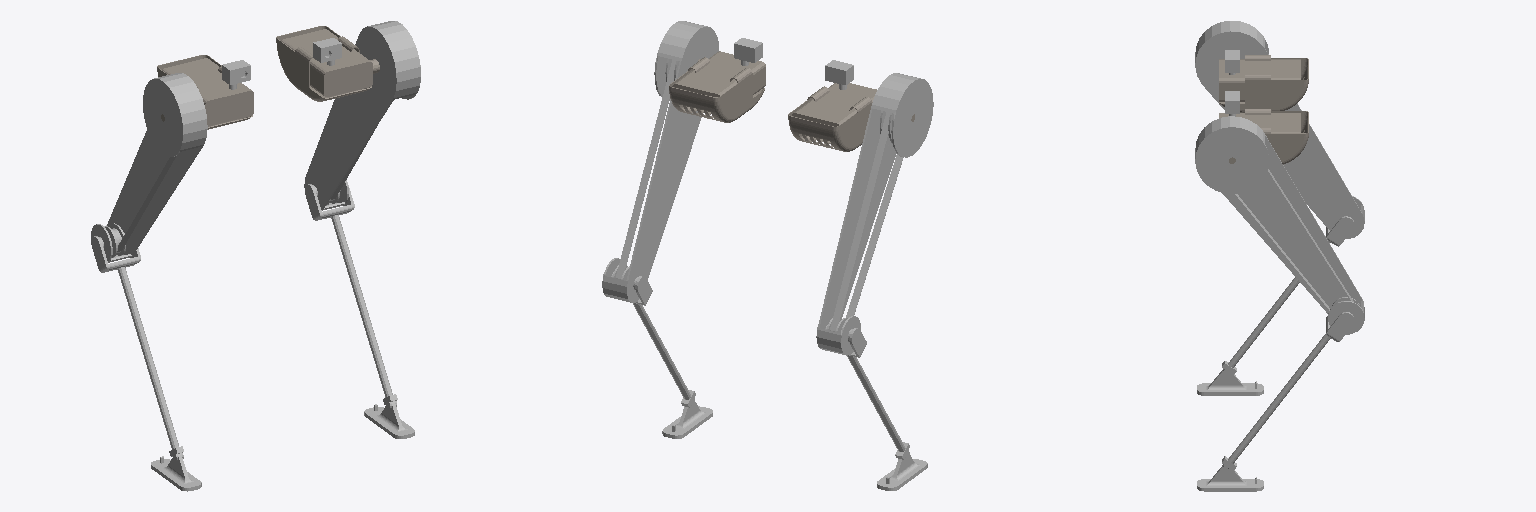
URDF robot description (centaur_urdf):
<?xml version="1.0" encoding="utf-8"?>
<!-- This URDF was automatically created by SolidWorks to URDF Exporter! Originally created by [author] ([email redacted]) 
     Commit Version: 1.6.0-1-g15f4949  Build Version: 1.6.7594.29634
     For more information, please see http://wiki.ros.org/sw_urdf_exporter -->
<robot
  name="centaur_urdf">
  <link
    name="base_link">
    <inertial>
      <origin
        xyz="5.99274422863338E-08 0.0627785232806068 -0.00140559366517001"
        rpy="0 0 0" />
      <mass
        value="1.86977241288359" />
      <inertia
        ixx="0.00479191131050549"
        ixy="3.90881402194306E-09"
        ixz="-7.46774984462918E-09"
        iyy="0.0107382223914361"
        iyz="0.000736442802352788"
        izz="0.0136871237771052" />
    </inertial>
    <visual>
      <origin
        xyz="0 0 0"
        rpy="0 0 0" />
      <geometry>
        <mesh
          filename="package://centaur_urdf/meshes/base_link.STL" />
      </geometry>
      <material
        name="">
        <color
          rgba="0.752941176470588 0.752941176470588 0.752941176470588 1" />
      </material>
    </visual>
    <collision>
      <origin
        xyz="0 0 0"
        rpy="0 0 0" />
      <geometry>
        <mesh
          filename="package://centaur_urdf/meshes/base_link.STL" />
      </geometry>
    </collision>
  </link>
  <link
    name="LPelvis01">
    <inertial>
      <origin
        xyz="0.011229 -0.003225 -0.025461"
        rpy="0 0 0" />
      <mass
        value="0.10228" />
      <inertia
        ixx="3.6191E-05"
        ixy="2.8934E-06"
        ixz="-5.2913E-07"
        iyy="4.1712E-05"
        iyz="1.5198E-07"
        izz="5.3341E-05" />
    </inertial>
    <visual>
      <origin
        xyz="0 0 0"
        rpy="0 0 0" />
      <geometry>
        <mesh
          filename="package://centaur_urdf/meshes/LPelvis01.STL" />
      </geometry>
      <material
        name="">
        <color
          rgba="0.75294 0.75294 0.75294 1" />
      </material>
    </visual>
    <collision>
      <origin
        xyz="0 0 0"
        rpy="0 0 0" />
      <geometry>
        <mesh
          filename="package://centaur_urdf/meshes/LPelvis01.STL" />
      </geometry>
    </collision>
  </link>
  <joint
    name="Lhipy"
    type="revolute">
    <origin
      xyz="0.12 0.07 0"
      rpy="1.5708 0 0" />
    <parent
      link="base_link" />
    <child
      link="LPelvis01" />
    <axis
      xyz="0 0 -1" />
    <limit
      lower="-2"
      upper="2"
      effort="0"
      velocity="0" />
  </joint>
  <link
    name="LPelvis02">
    <inertial>
      <origin
        xyz="0.030747 0.043959 -0.053175"
        rpy="0 0 0" />
      <mass
        value="1.2721" />
      <inertia
        ixx="0.0039413"
        ixy="0.00010999"
        ixz="2.6582E-05"
        iyy="0.0030337"
        iyz="-0.00066066"
        izz="0.0057264" />
    </inertial>
    <visual>
      <origin
        xyz="0 0 0"
        rpy="0 0 0" />
      <geometry>
        <mesh
          filename="package://centaur_urdf/meshes/LPelvis02.STL" />
      </geometry>
      <material
        name="">
        <color
          rgba="0.64706 0.61961 0.58824 1" />
      </material>
    </visual>
    <collision>
      <origin
        xyz="0 0 0"
        rpy="0 0 0" />
      <geometry>
        <mesh
          filename="package://centaur_urdf/meshes/LPelvis02.STL" />
      </geometry>
    </collision>
  </link>
  <joint
    name="Lhipz"
    type="revolute">
    <origin
      xyz="0.02 -0.02 -0.025"
      rpy="-1.5708 0 0" />
    <parent
      link="LPelvis01" />
    <child
      link="LPelvis02" />
    <axis
      xyz="0 0 -1" />
    <limit
      lower="-2"
      upper="2"
      effort="0"
      velocity="0" />
  </joint>
  <link
    name="LThigh">
    <inertial>
      <origin
        xyz="0.068249 -0.10404 0.027078"
        rpy="0 0 0" />
      <mass
        value="1.3138" />
      <inertia
        ixx="0.03289"
        ixy="0.019361"
        ixz="0.00061008"
        iyy="0.016077"
        iyz="-0.00092999"
        izz="0.047578" />
    </inertial>
    <visual>
      <origin
        xyz="0 0 0"
        rpy="0 0 0" />
      <geometry>
        <mesh
          filename="package://centaur_urdf/meshes/LThigh.STL" />
      </geometry>
      <material
        name="">
        <color
          rgba="0.75294 0.75294 0.75294 1" />
      </material>
    </visual>
    <collision>
      <origin
        xyz="0 0 0"
        rpy="0 0 0" />
      <geometry>
        <mesh
          filename="package://centaur_urdf/meshes/LThigh.STL" />
      </geometry>
    </collision>
  </link>
  <joint
    name="Lhipx"
    type="revolute">
    <origin
      xyz="0.13 0 -0.055"
      rpy="1.5708 0 1.5708" />
    <parent
      link="LPelvis02" />
    <child
      link="LThigh" />
    <axis
      xyz="0 0 -1" />
    <limit
      lower="-2"
      upper="2"
      effort="0"
      velocity="0" />
  </joint>
  <link
    name="LCalf">
    <inertial>
      <origin
        xyz="-0.075262 -0.10701 0.035"
        rpy="0 0 0" />
      <mass
        value="0.42989" />
      <inertia
        ixx="0.0055581"
        ixy="-0.003716"
        ixz="-2.1124E-10"
        iyy="0.0028884"
        iyz="-3.3819E-10"
        izz="0.0080157" />
    </inertial>
    <visual>
      <origin
        xyz="0 0 0"
        rpy="0 0 0" />
      <geometry>
        <mesh
          filename="package://centaur_urdf/meshes/LCalf.STL" />
      </geometry>
      <material
        name="">
        <color
          rgba="0.75294 0.75294 0.75294 1" />
      </material>
    </visual>
    <collision>
      <origin
        xyz="0 0 0"
        rpy="0 0 0" />
      <geometry>
        <mesh
          filename="package://centaur_urdf/meshes/LCalf.STL" />
      </geometry>
    </collision>
  </link>
  <joint
    name="Lkneex"
    type="revolute">
    <origin
      xyz="0.30717 -0.46824 0"
      rpy="0 0 0" />
    <parent
      link="LThigh" />
    <child
      link="LCalf" />
    <axis
      xyz="0 0 -1" />
    <limit
      lower="-1"
      upper="1"
      effort="0"
      velocity="0" />
  </joint>
  <link
    name="LFoot">
    <inertial>
      <origin
        xyz="0.0075881 -0.048108 0.01"
        rpy="0 0 0" />
      <mass
        value="0.13962" />
      <inertia
        ixx="5.5783E-05"
        ixy="6.6601E-06"
        ixz="-1.7724E-12"
        iyy="0.00030802"
        iyz="1.4707E-12"
        izz="0.00030837" />
    </inertial>
    <visual>
      <origin
        xyz="0 0 0"
        rpy="0 0 0" />
      <geometry>
        <mesh
          filename="package://centaur_urdf/meshes/LFoot.STL" />
      </geometry>
      <material
        name="">
        <color
          rgba="0.75294 0.75294 0.75294 1" />
      </material>
    </visual>
    <collision>
      <origin
        xyz="0 0 0"
        rpy="0 0 0" />
      <geometry>
        <mesh
          filename="package://centaur_urdf/meshes/LFoot.STL" />
      </geometry>
    </collision>
  </link>
  <joint
    name="Lanklex"
    type="revolute">
    <origin
      xyz="-0.32217 -0.45805 0.025"
      rpy="0 0 0" />
    <parent
      link="LCalf" />
    <child
      link="LFoot" />
    <axis
      xyz="0 0 1" />
    <limit
      lower="-0.3"
      upper="0.3"
      effort="0"
      velocity="0" />
  </joint>
  <link
    name="RPelvis01">
    <inertial>
      <origin
        xyz="-0.011229 -0.003225 -0.025461"
        rpy="0 0 0" />
      <mass
        value="0.10228" />
      <inertia
        ixx="3.6191E-05"
        ixy="-2.8934E-06"
        ixz="5.2913E-07"
        iyy="4.1712E-05"
        iyz="1.5198E-07"
        izz="5.3341E-05" />
    </inertial>
    <visual>
      <origin
        xyz="0 0 0"
        rpy="0 0 0" />
      <geometry>
        <mesh
          filename="package://centaur_urdf/meshes/RPelvis01.STL" />
      </geometry>
      <material
        name="">
        <color
          rgba="0.75294 0.75294 0.75294 1" />
      </material>
    </visual>
    <collision>
      <origin
        xyz="0 0 0"
        rpy="0 0 0" />
      <geometry>
        <mesh
          filename="package://centaur_urdf/meshes/RPelvis01.STL" />
      </geometry>
    </collision>
  </link>
  <joint
    name="Rhipy"
    type="revolute">
    <origin
      xyz="-0.12 0.07 0"
      rpy="1.5708 0 0" />
    <parent
      link="base_link" />
    <child
      link="RPelvis01" />
    <axis
      xyz="0 0 -1" />
    <limit
      lower="-2"
      upper="2"
      effort="0"
      velocity="0" />
  </joint>
  <link
    name="RPelvis02">
    <inertial>
      <origin
        xyz="-0.030747 0.043959 -0.053175"
        rpy="0 0 0" />
      <mass
        value="1.2721" />
      <inertia
        ixx="0.0039413"
        ixy="-0.00010998"
        ixz="-2.6601E-05"
        iyy="0.0030337"
        iyz="-0.00066067"
        izz="0.0057264" />
    </inertial>
    <visual>
      <origin
        xyz="0 0 0"
        rpy="0 0 0" />
      <geometry>
        <mesh
          filename="package://centaur_urdf/meshes/RPelvis02.STL" />
      </geometry>
      <material
        name="">
        <color
          rgba="0.64706 0.61961 0.58824 1" />
      </material>
    </visual>
    <collision>
      <origin
        xyz="0 0 0"
        rpy="0 0 0" />
      <geometry>
        <mesh
          filename="package://centaur_urdf/meshes/RPelvis02.STL" />
      </geometry>
    </collision>
  </link>
  <joint
    name="Rhipz"
    type="revolute">
    <origin
      xyz="-0.02 -0.02 -0.025"
      rpy="-1.5708 0 0" />
    <parent
      link="RPelvis01" />
    <child
      link="RPelvis02" />
    <axis
      xyz="0 0 -1" />
    <limit
      lower="-2"
      upper="2"
      effort="0"
      velocity="0" />
  </joint>
  <link
    name="RThigh">
    <inertial>
      <origin
        xyz="-0.068248591184368 -0.104037584054621 0.0270775562011833"
        rpy="0 0 0" />
      <mass
        value="1.31379565424727" />
      <inertia
        ixx="0.0328896081972683"
        ixy="-0.0193609931199482"
        ixz="-0.000610076143023301"
        iyy="0.0160766711006057"
        iyz="-0.000929994991955905"
        izz="0.0475775788276022" />
    </inertial>
    <visual>
      <origin
        xyz="0 0 0"
        rpy="0 0 0" />
      <geometry>
        <mesh
          filename="package://centaur_urdf/meshes/RThigh.STL" />
      </geometry>
      <material
        name="">
        <color
          rgba="0.752941176470588 0.752941176470588 0.752941176470588 1" />
      </material>
    </visual>
    <collision>
      <origin
        xyz="0 0 0"
        rpy="0 0 0" />
      <geometry>
        <mesh
          filename="package://centaur_urdf/meshes/RThigh.STL" />
      </geometry>
    </collision>
  </link>
  <joint
    name="Rhipx"
    type="revolute">
    <origin
      xyz="-0.13 0 -0.055"
      rpy="1.5708 0 -1.5708" />
    <parent
      link="RPelvis02" />
    <child
      link="RThigh" />
    <axis
      xyz="0 0 -1" />
    <limit
      lower="-2"
      upper="2"
      effort="0"
      velocity="0" />
  </joint>
  <link
    name="RCalf">
    <inertial>
      <origin
        xyz="0.075262 -0.10701 0.035"
        rpy="0 0 0" />
      <mass
        value="0.42989" />
      <inertia
        ixx="0.0055581"
        ixy="0.003716"
        ixz="2.4682E-10"
        iyy="0.0028884"
        iyz="-3.1279E-10"
        izz="0.0080157" />
    </inertial>
    <visual>
      <origin
        xyz="0 0 0"
        rpy="0 0 0" />
      <geometry>
        <mesh
          filename="package://centaur_urdf/meshes/RCalf.STL" />
      </geometry>
      <material
        name="">
        <color
          rgba="0.75294 0.75294 0.75294 1" />
      </material>
    </visual>
    <collision>
      <origin
        xyz="0 0 0"
        rpy="0 0 0" />
      <geometry>
        <mesh
          filename="package://centaur_urdf/meshes/RCalf.STL" />
      </geometry>
    </collision>
  </link>
  <joint
    name="Rkneex"
    type="revolute">
    <origin
      xyz="-0.30717 -0.46824 0"
      rpy="0 0 0" />
    <parent
      link="RThigh" />
    <child
      link="RCalf" />
    <axis
      xyz="0 0 -1" />
    <limit
      lower="-1"
      upper="1"
      effort="0"
      velocity="0" />
  </joint>
  <link
    name="RFoot">
    <inertial>
      <origin
        xyz="-0.0075881 -0.048108 0.01"
        rpy="0 0 0" />
      <mass
        value="0.13962" />
      <inertia
        ixx="5.5783E-05"
        ixy="-6.6601E-06"
        ixz="-1.7724E-12"
        iyy="0.00030802"
        iyz="-1.4707E-12"
        izz="0.00030837" />
    </inertial>
    <visual>
      <origin
        xyz="0 0 0"
        rpy="0 0 0" />
      <geometry>
        <mesh
          filename="package://centaur_urdf/meshes/RFoot.STL" />
      </geometry>
      <material
        name="">
        <color
          rgba="0.75294 0.75294 0.75294 1" />
      </material>
    </visual>
    <collision>
      <origin
        xyz="0 0 0"
        rpy="0 0 0" />
      <geometry>
        <mesh
          filename="package://centaur_urdf/meshes/RFoot.STL" />
      </geometry>
    </collision>
  </link>
  <joint
    name="Ranklex"
    type="revolute">
    <origin
      xyz="0.32217 -0.45805 0.025"
      rpy="0 0 0" />
    <parent
      link="RCalf" />
    <child
      link="RFoot" />
    <axis
      xyz="0 0 -1" />
    <limit
      lower="-0.3"
      upper="0.3"
      effort="0"
      velocity="0" />
  </joint>
</robot>

--- Render facts (derived) ---
The picture shows the robot from 3 angles, left to right: view 1: azimuth 30°, elevation 25°; view 2: azimuth 150°, elevation 25°; view 3: azimuth 270°, elevation 25°; orthographic projection.
Robot: centaur_urdf — 11 links, 10 joints (10 revolute); root link base_link; default pose: every joint at zero.
Links seen in each view (by area): view 1: RThigh, LThigh, LPelvis02, RPelvis02, RCalf, LCalf, RFoot, LFoot, RPelvis01, LPelvis01; view 2: RThigh, LThigh, LPelvis02, RPelvis02, RCalf, LCalf, RFoot, LFoot, RPelvis01, LPelvis01; view 3: LThigh, RThigh, RPelvis02, LPelvis02, LCalf, RCalf, LFoot, RFoot.
Boxes of the visible links, left/top/right/bottom form: RThigh: left=91, top=73, right=207, bottom=262; LThigh: left=304, top=21, right=420, bottom=210; LPelvis02: left=276, top=26, right=379, bottom=101; RPelvis02: left=157, top=55, right=253, bottom=129; RCalf: left=91, top=224, right=183, bottom=460; LCalf: left=305, top=182, right=397, bottom=408; RFoot: left=151, top=453, right=201, bottom=491; LFoot: left=364, top=401, right=414, bottom=438; RPelvis01: left=222, top=60, right=250, bottom=89; LPelvis01: left=313, top=38, right=341, bottom=65; RThigh: left=816, top=73, right=933, bottom=355; LThigh: left=602, top=21, right=718, bottom=302; LPelvis02: left=669, top=51, right=765, bottom=122; RPelvis02: left=788, top=83, right=914, bottom=151; RCalf: left=817, top=318, right=909, bottom=459; LCalf: left=603, top=265, right=695, bottom=407; RFoot: left=877, top=453, right=927, bottom=490; LFoot: left=662, top=400, right=712, bottom=438; RPelvis01: left=825, top=60, right=853, bottom=89; LPelvis01: left=734, top=38, right=762, bottom=65; LThigh: left=1195, top=116, right=1364, bottom=334; RThigh: left=1195, top=21, right=1364, bottom=238; RPelvis02: left=1219, top=55, right=1308, bottom=112; LPelvis02: left=1219, top=109, right=1308, bottom=164; LCalf: left=1222, top=297, right=1359, bottom=471; RCalf: left=1222, top=216, right=1353, bottom=375; LFoot: left=1197, top=464, right=1263, bottom=491; RFoot: left=1197, top=369, right=1263, bottom=395.
Bounding box of the posed robot: 0.71 × 0.457 × 1.09 m (x, y, z).
Meshes: 11 distinct files referenced, 10 mesh visuals loaded (10 binary STL); not drawn: 1 (reference not matched to a file when rendering).